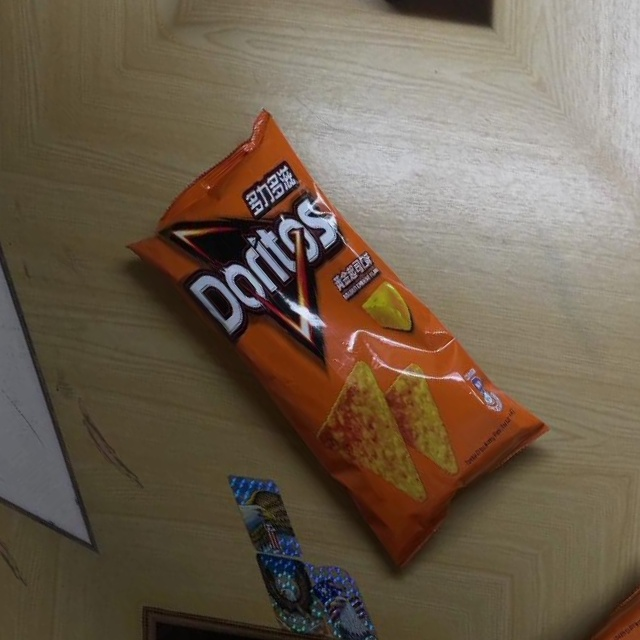Doritos: (113, 99, 554, 567)
